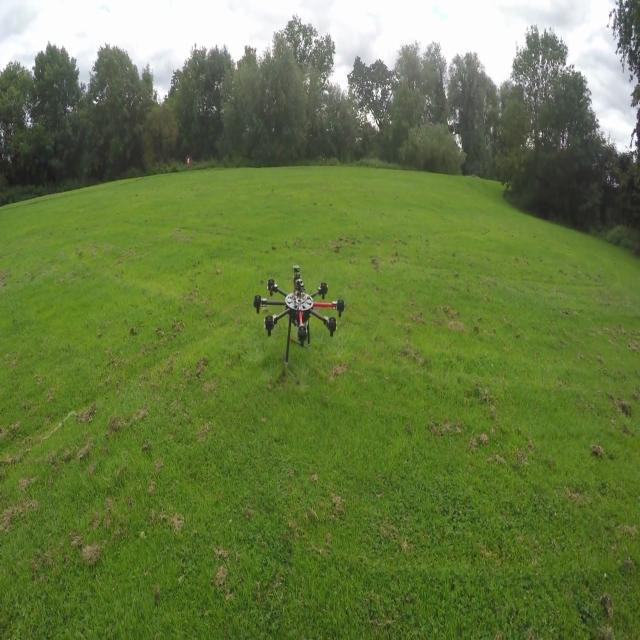drone: (249, 256, 358, 376)
